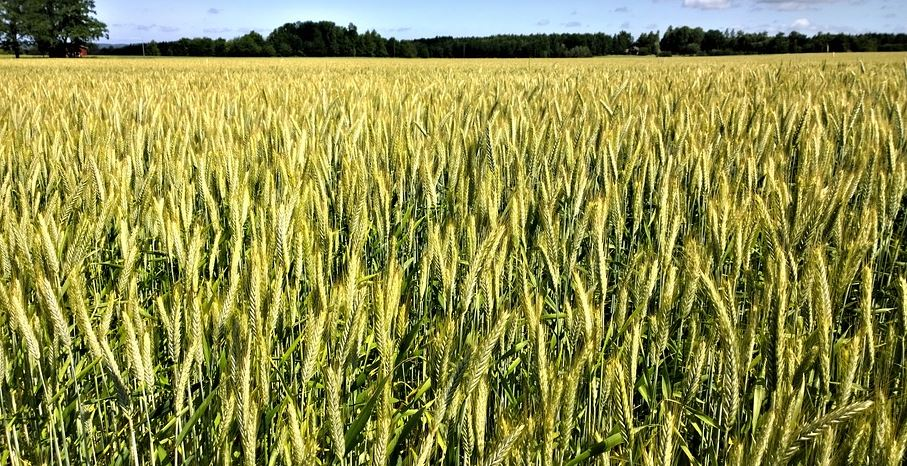Wheat: (162, 168, 686, 449)
